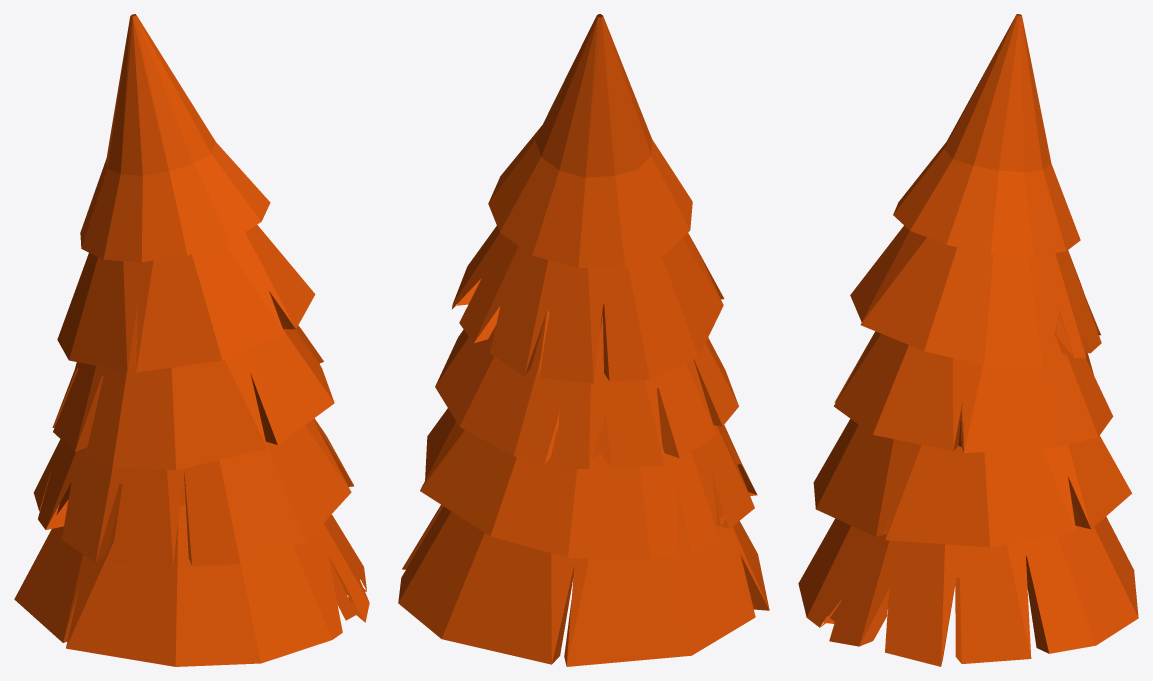
File: tree-autumn-leaves-15-045.glb
3 views of the same model, side by side, from view 1: azimuth 30°, elevation 25°; view 2: azimuth 150°, elevation 25°; view 3: azimuth 270°, elevation 25° (orthographic). The views are drawn at different scales.
Parts seen in each view (by area): view 1: TREE 15.007_391; view 2: TREE 15.007_391; view 3: TREE 15.007_391.
Part boxes in pixels (x1=…): TREE 15.007_391: x1=14, y1=14, x2=369, y2=666; TREE 15.007_391: x1=398, y1=14, x2=769, y2=666; TREE 15.007_391: x1=798, y1=14, x2=1138, y2=666.
Size of the model in its own units: 0.8423 by 1.5 by 0.8185.
